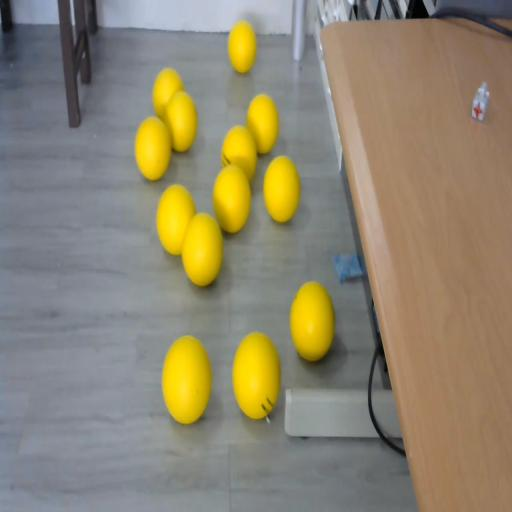FUEL: (161, 334, 212, 423), (231, 330, 281, 420), (288, 281, 334, 362), (180, 211, 224, 287), (212, 163, 252, 232), (263, 155, 300, 222), (134, 116, 172, 180), (165, 90, 198, 153), (246, 94, 280, 154), (227, 20, 257, 73)
